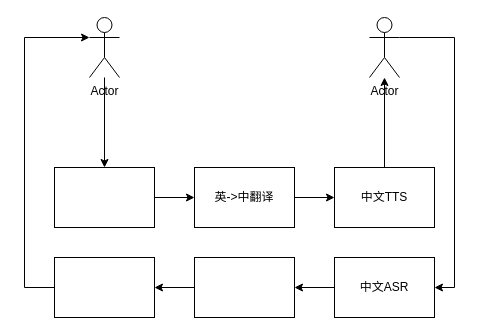
Image size: 480x335. Some labels were removed from this diagram. The centre of each missing label's shape, as x and y in pixels:
"中->英翻译" goes at [244,287].
"英文ASR" goes at [104,197].
"英文TTS" goes at [104,287].
